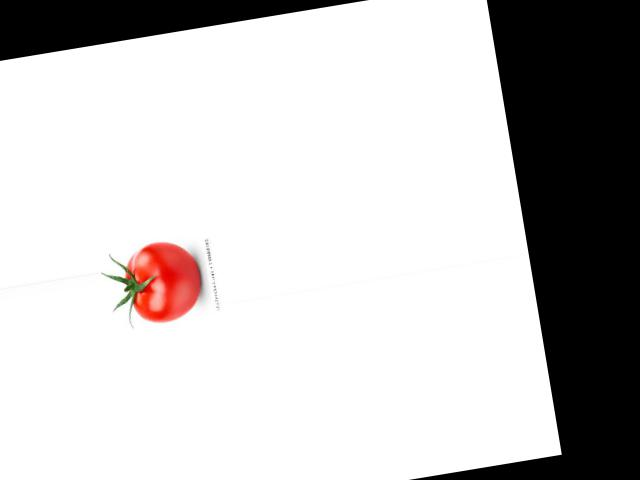tomato: (121, 236, 205, 326)
